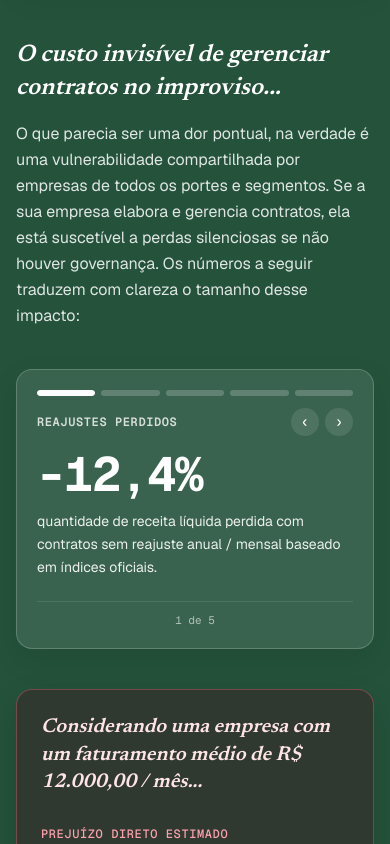
it: ProblemBanner (Spec 0002 - CA1 e CA2: Carta do Dev e Métricas de Prejuízo) › CA4: Deve suportar navegação mobile estilo Stories com barras segmentadas e botões anterior/próximo
(page scrolled)
Check: the number of buttons named "Métrica 1: Reajustes perdidos" is 5, box x1=37 y1=390 x2=95 y2=396; x1=101 y1=390 x2=160 y2=396; x1=166 y1=390 x2=224 y2=396; x1=230 y1=390 x2=289 y2=396; x1=295 y1=390 x2=353 y2=396
Check: the text "1 de 5" is shown, box x1=175 y1=612 x2=215 y2=628
Click the button named "Próxima métrica" at (339, 422), box x1=325 y1=408 x2=353 y2=436
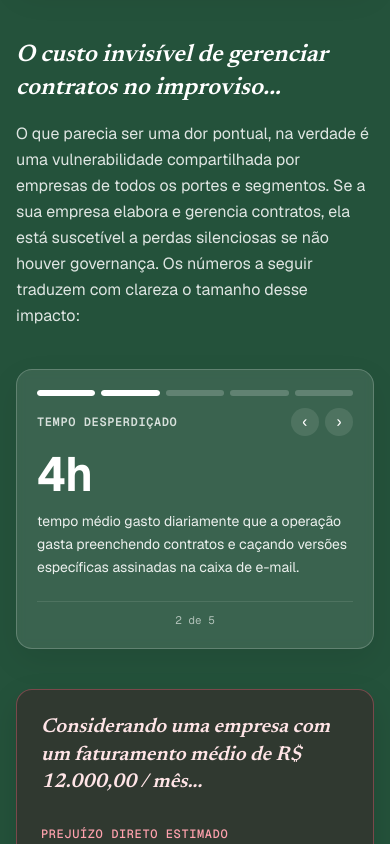
Check: the text "2 de 5" is shown, box x1=175 y1=612 x2=215 y2=628
Check: the text "4h" is shown, box x1=37 y1=443 x2=92 y2=505
// Clica na barra da métrica 4 diretamente
Click the button named "Métrica 4: Descontos sem controle" at (259, 393), box x1=230 y1=390 x2=289 y2=396
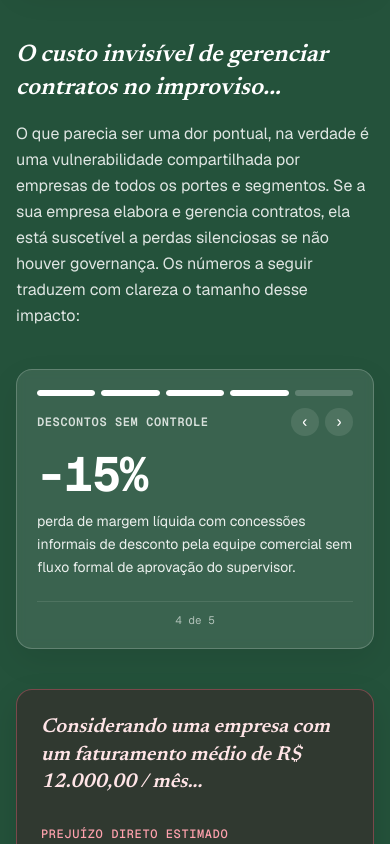
Check: the text "4 de 5" is shown, box x1=175 y1=612 x2=215 y2=628
Check: the text "-15%" is shown, box x1=37 y1=443 x2=147 y2=505
Click the button named "Métrica anterior" at (305, 422), box x1=291 y1=408 x2=319 y2=436
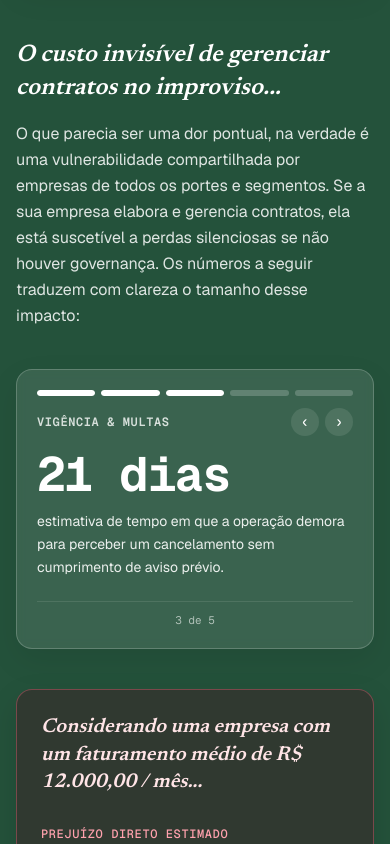
Check: the text "3 de 5" is shown, box x1=175 y1=612 x2=215 y2=628
Check: the text "21 dias" is shown, box x1=37 y1=443 x2=230 y2=505
